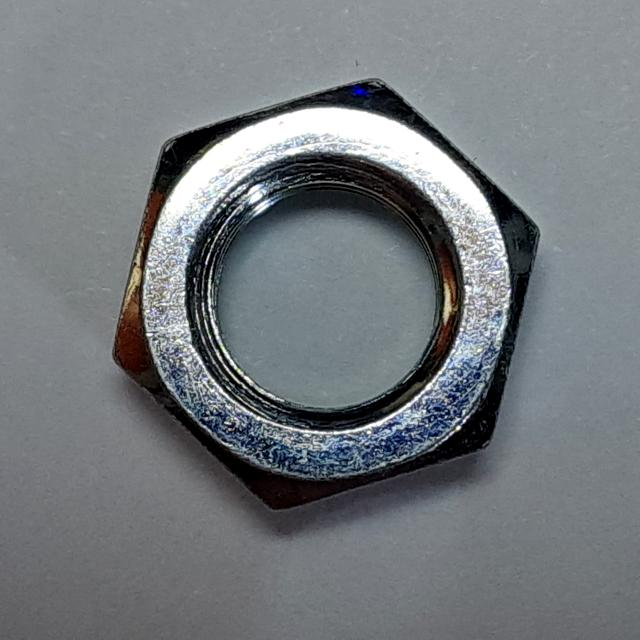Excellent: (96, 62, 566, 541)
